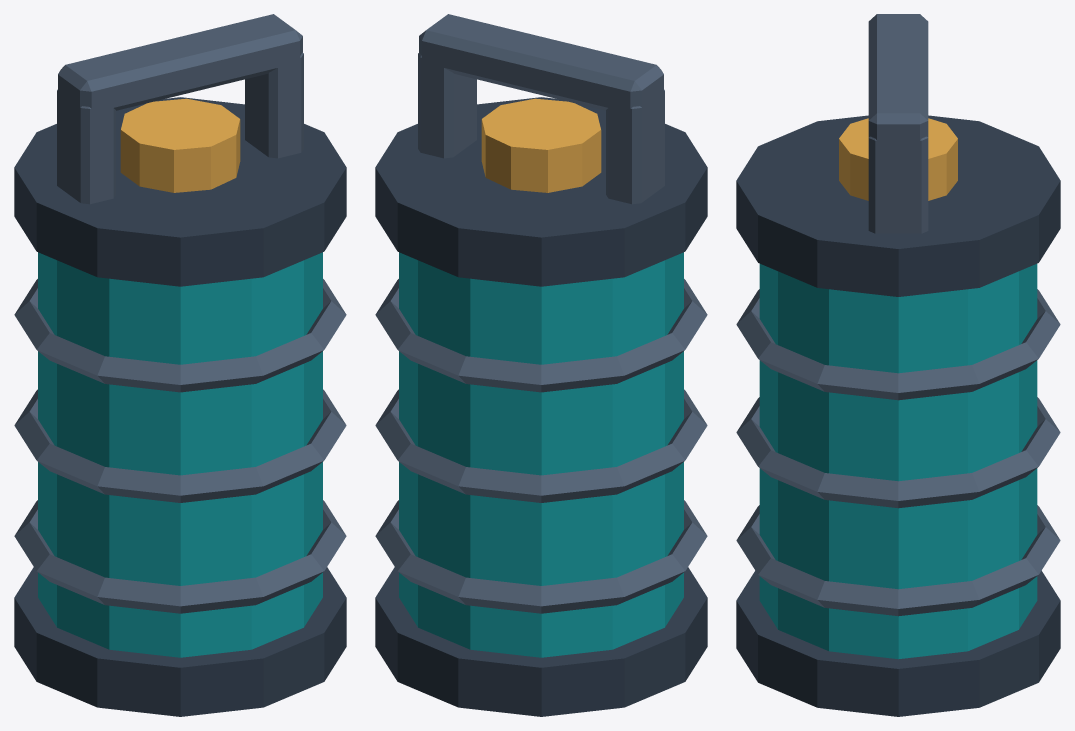
File: 08_Battery_Canister.glb
3 views of the same model, side by side, from view 1: azimuth 30°, elevation 25°; view 2: azimuth 150°, elevation 25°; view 3: azimuth 270°, elevation 25° (orthographic). The views are drawn at different scales.
Parts seen in each view (by area): view 1: 08_Battery_Canister__Body; view 2: 08_Battery_Canister__Body; view 3: 08_Battery_Canister__Body.
Boxes of the visible parts, x1,y1,x2,y2 form: 08_Battery_Canister__Body: (14, 14, 346, 716); 08_Battery_Canister__Body: (375, 14, 707, 716); 08_Battery_Canister__Body: (736, 14, 1060, 716).
Size of the model in its own units: 0.98 by 1.95 by 0.98.
1 material, 1 textured.
